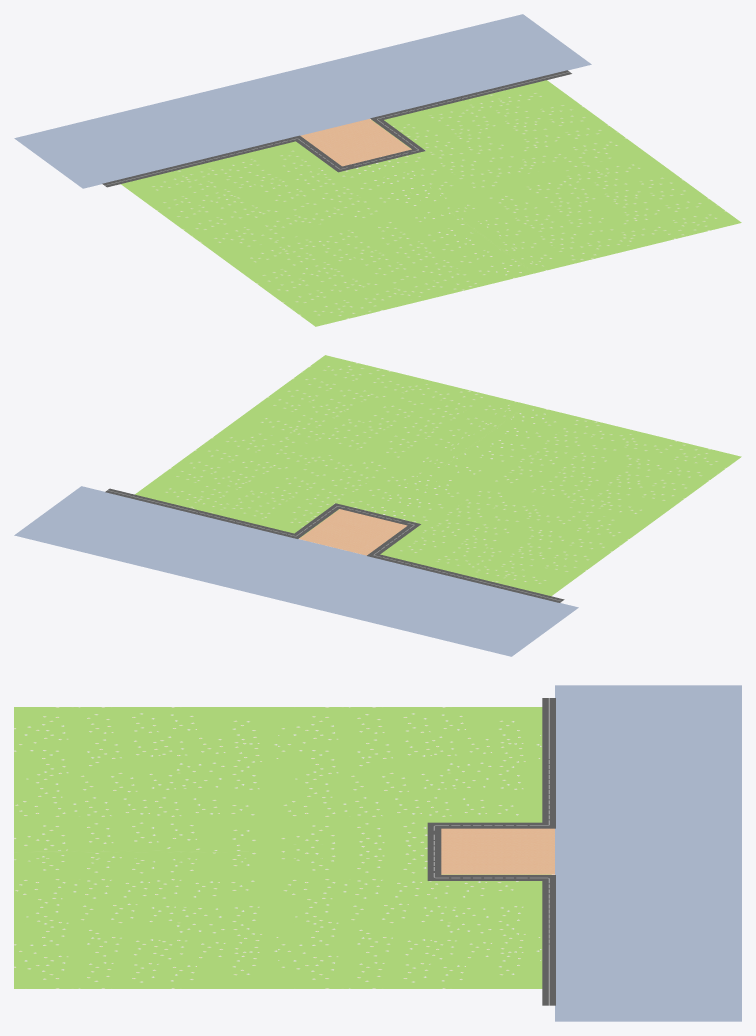
The model's file is Ground_Fix_New.fbx.
3 renders of one model, top to bottom at view 1: azimuth 30°, elevation 25°; view 2: azimuth 150°, elevation 25°; view 3: azimuth 270°, elevation 25°, orthographic. The views are drawn at different scales.
Visible parts, largest first — view 1: Ground_Fix_New; view 2: Ground_Fix_New; view 3: Ground_Fix_New.
Part boxes in pixels (x1=…): Ground_Fix_New: x1=14, y1=14, x2=741, y2=326; Ground_Fix_New: x1=14, y1=355, x2=741, y2=656; Ground_Fix_New: x1=14, y1=685, x2=741, y2=1021.
Size of the model in its own units: 18911 by 2.01 by 17284.
